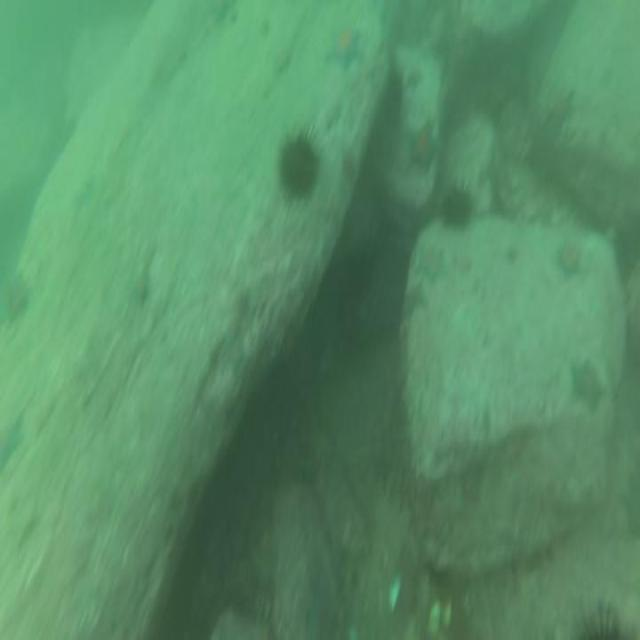echinus: (274, 123, 324, 209), (568, 594, 640, 640), (440, 174, 476, 237), (382, 63, 406, 117)
starfish: (568, 354, 608, 422), (402, 114, 443, 180), (320, 14, 365, 74), (0, 403, 28, 479), (454, 452, 488, 512), (413, 240, 448, 291), (618, 468, 640, 548), (554, 232, 586, 280), (398, 280, 428, 328)
